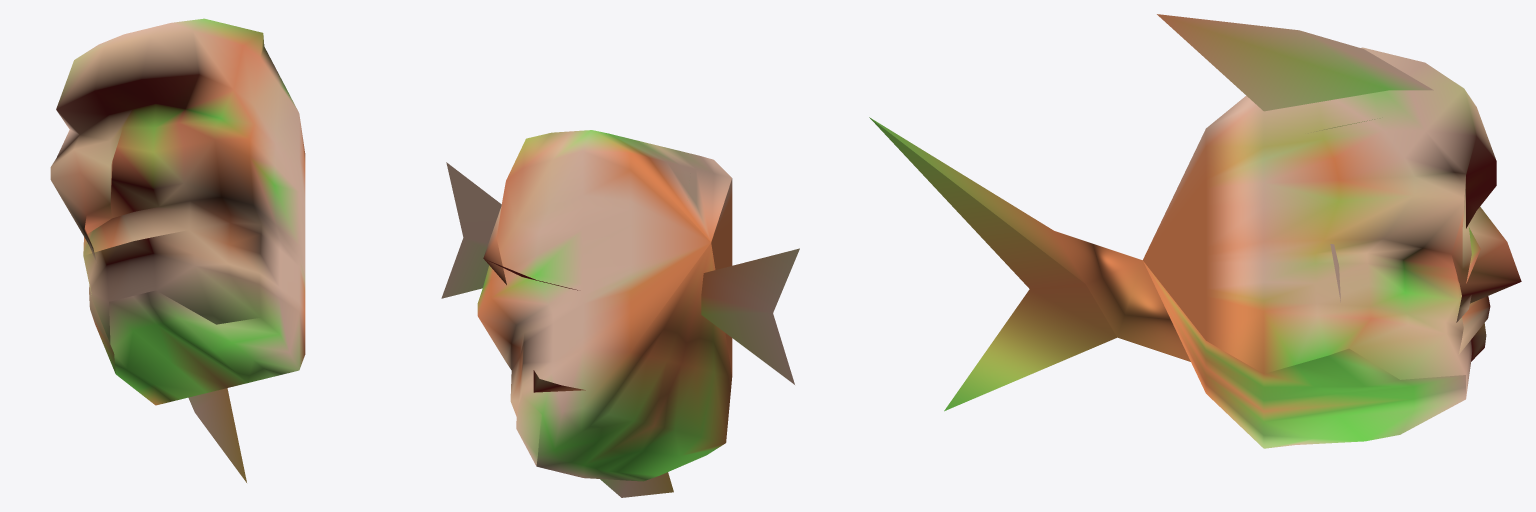
The model's file is head.glb.
3 views of the same model, side by side, from view 1: azimuth 30°, elevation 25°; view 2: azimuth 150°, elevation 25°; view 3: azimuth 270°, elevation 25° (orthographic). The views are drawn at different scales.
Visible parts, largest first — view 1: Head; view 2: Head; view 3: Head.
Part boxes in pixels (x1,y1,x2,y2): Head: (50,18,305,482); Head: (441,130,799,497); Head: (869,14,1521,448).
Size of the model in its own units: 0.8313 by 1.02 by 1.24.
